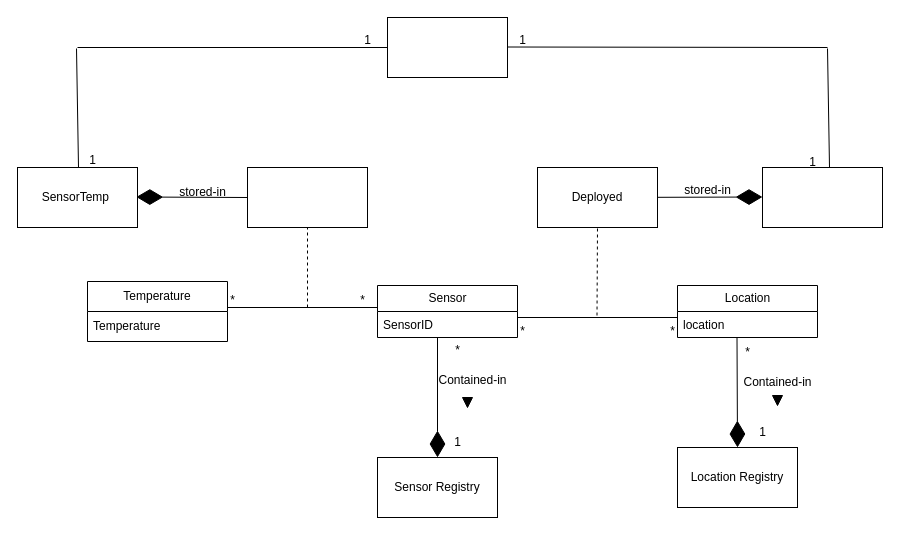
The diagram is 900 pixels wide and 535 high, and some of its shapes have lost their labels. The centre of each missing label's shape, as x and y in pixels:
"Measures" goes at point (307, 197).
"SensorLocation" goes at point (822, 197).
"System" goes at point (447, 47).
